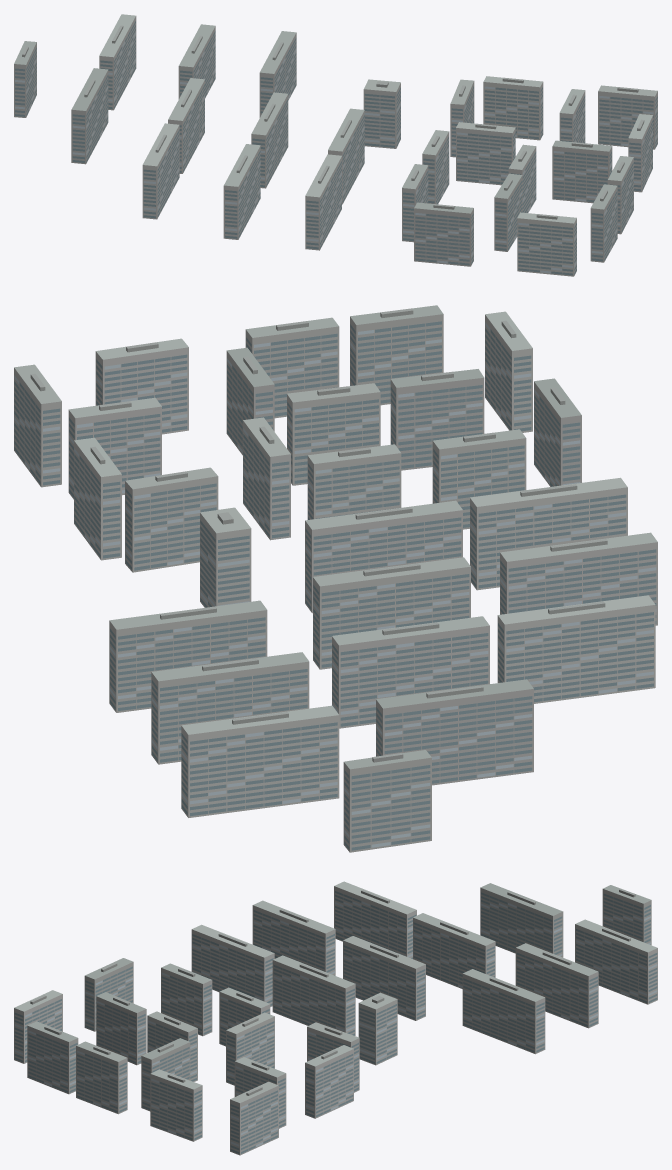
File: apt-a12185004.glb
The picture shows the model from 3 angles, top to bottom: view 1: azimuth 30°, elevation 25°; view 2: azimuth 150°, elevation 25°; view 3: azimuth 270°, elevation 25°; orthographic projection. The views are drawn at different scales.
Parts seen in each view (by area): view 1: apt-a12185004; view 2: apt-a12185004; view 3: apt-a12185004.
Part boxes in pixels (box(x1,y1,x2,y2)): apt-a12185004: box(14, 14, 657, 276); apt-a12185004: box(14, 305, 657, 852); apt-a12185004: box(14, 881, 657, 1155).
Bounding box in the file's own units: 389 × 47.81 × 477.
